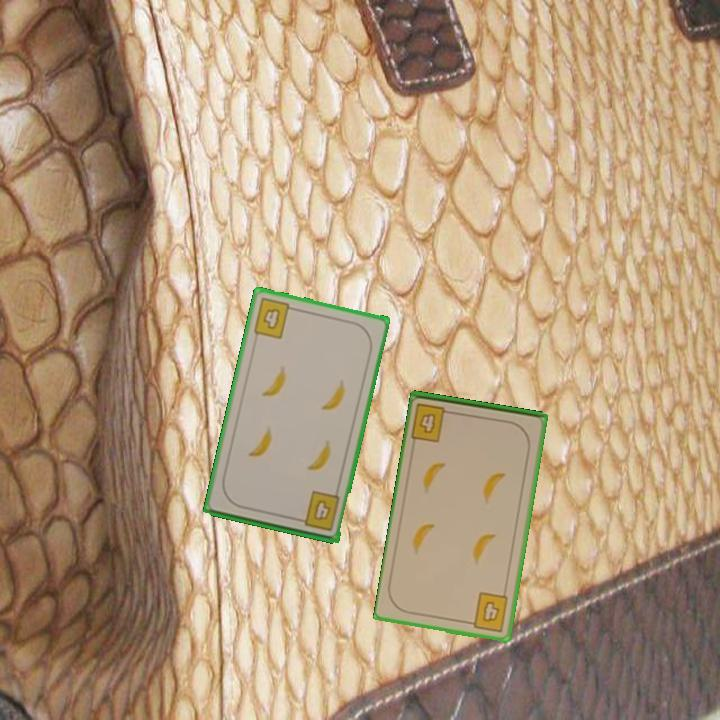4b: (249, 294, 299, 342), (408, 399, 457, 445), (293, 488, 342, 534), (464, 588, 511, 635)
